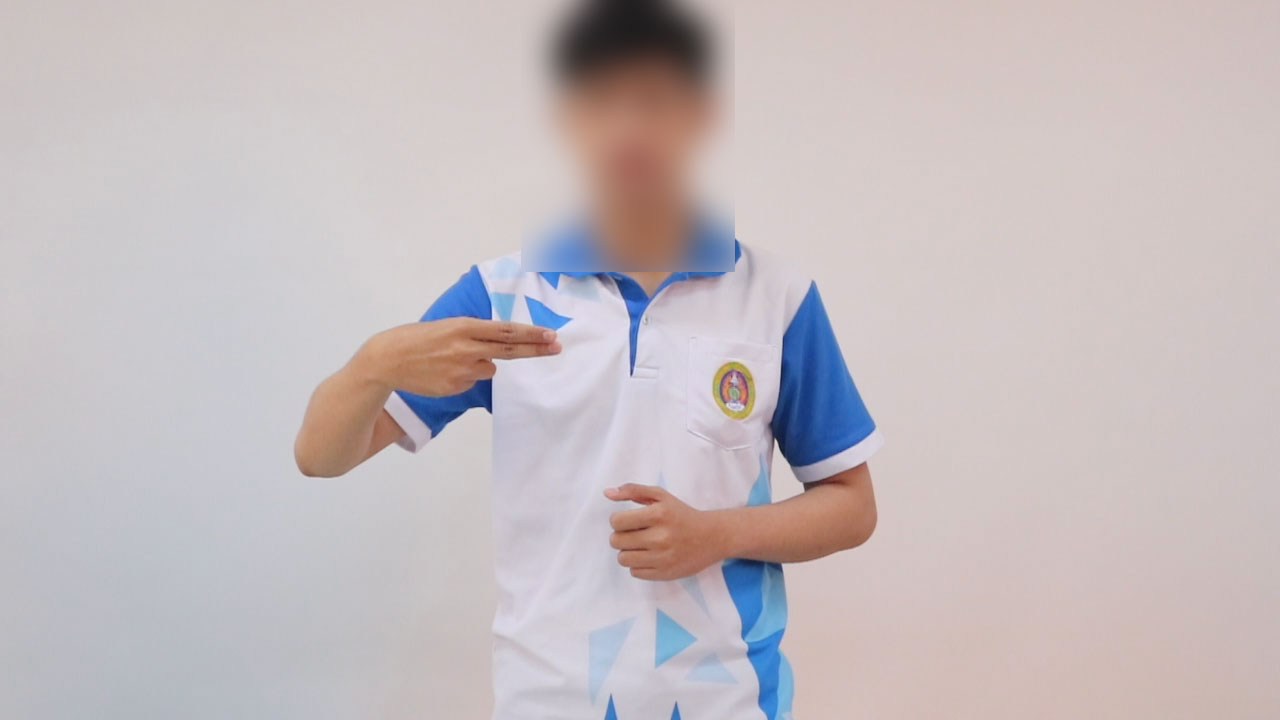hor: (348, 306, 573, 407)
